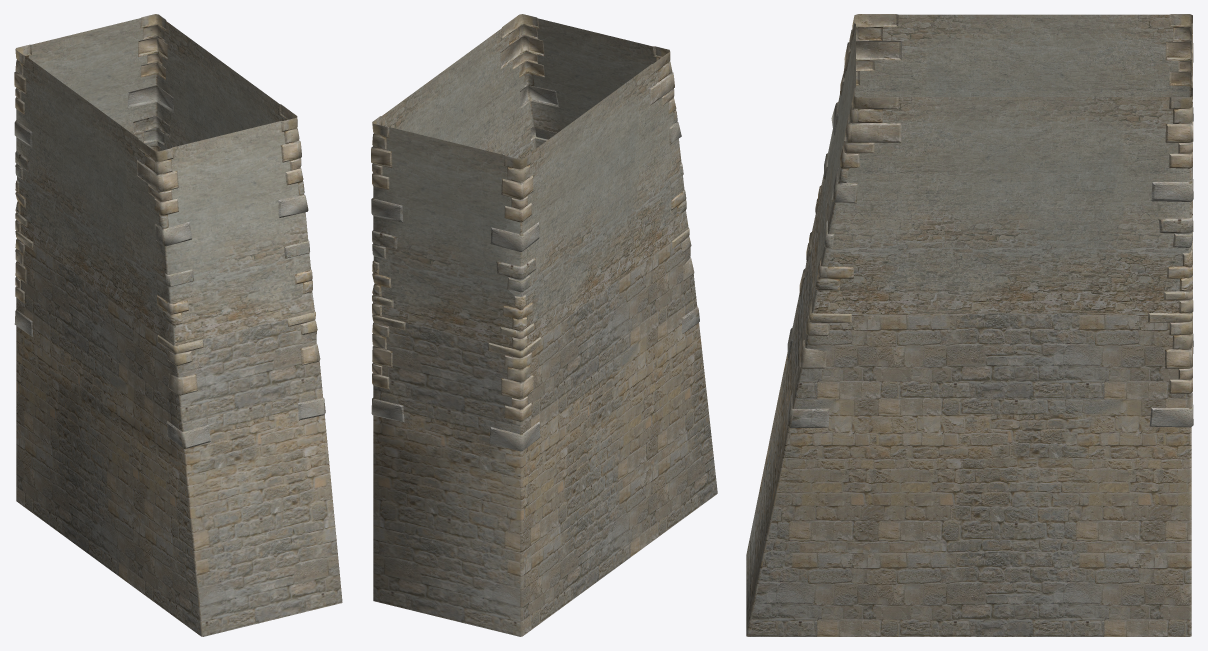
The model's file is bg_atm_aborder_abbeystructure01b_sm_jjy.FBX.
3 views of the same model, side by side, from view 1: azimuth 30°, elevation 25°; view 2: azimuth 150°, elevation 25°; view 3: azimuth 270°, elevation 25° (orthographic). The views are drawn at different scales.
Visible parts, largest first — view 1: bg_atm_aborder_abbeystructure01b_sm_jjy; view 2: bg_atm_aborder_abbeystructure01b_sm_jjy; view 3: bg_atm_aborder_abbeystructure01b_sm_jjy.
Boxes of the visible parts, x1,y1,x2,y2 form: bg_atm_aborder_abbeystructure01b_sm_jjy: (14,14,342,636); bg_atm_aborder_abbeystructure01b_sm_jjy: (371,14,717,636); bg_atm_aborder_abbeystructure01b_sm_jjy: (746,14,1193,636).
Bounding box in the file's own units: 359 × 1065 × 799.
